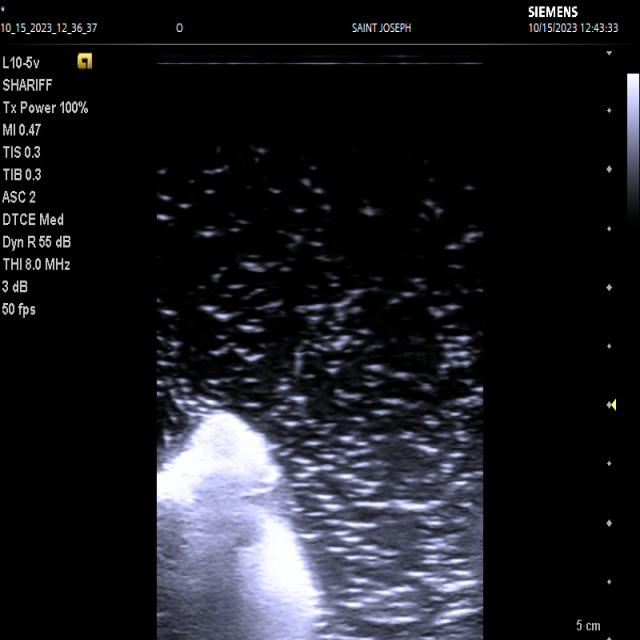tissue: (157, 414, 326, 640)
